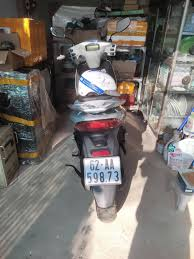Bien-so: (81, 157, 123, 187)
